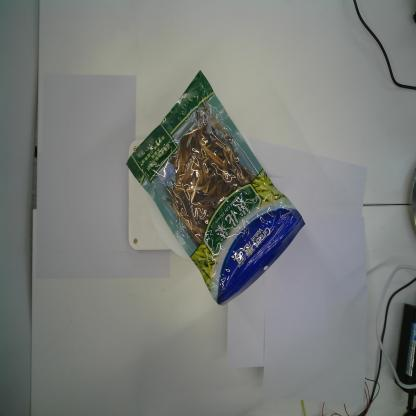Dried Food: (125, 69, 306, 307)
